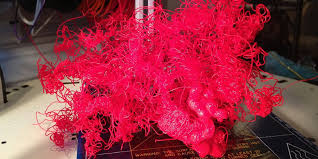fail: (31, 1, 288, 158)
